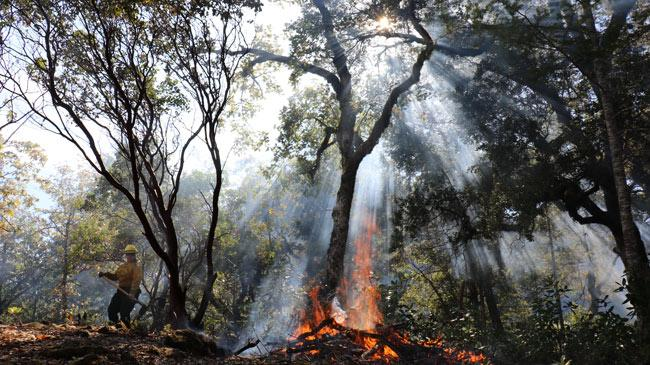Fire: (282, 180, 411, 365)
